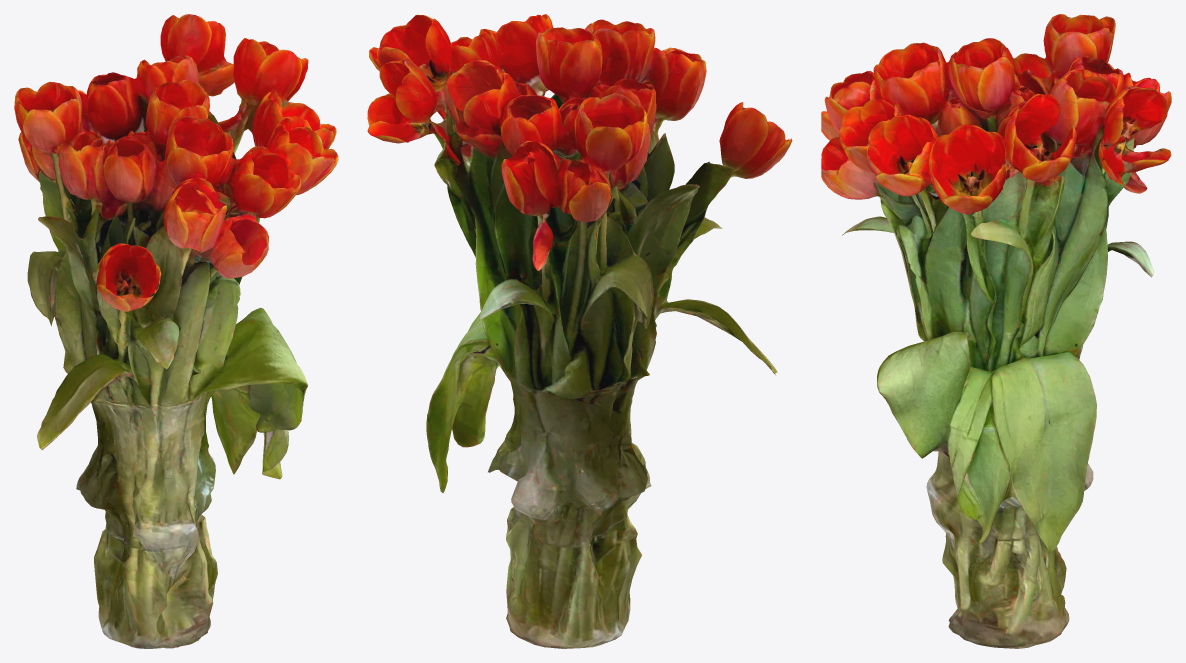
Rendered from bouquet_tulips_alban.glb.
3 renders of one model, left to right at view 1: azimuth 30°, elevation 25°; view 2: azimuth 150°, elevation 25°; view 3: azimuth 270°, elevation 25°, orthographic. The views are drawn at different scales.
Visible parts, largest first — view 1: Object_4; view 2: Object_4; view 3: Object_4.
Part boxes in pixels (bbox=[...]): Object_4: bbox=[14, 14, 338, 648]; Object_4: bbox=[367, 14, 792, 648]; Object_4: bbox=[821, 14, 1171, 648].
Bounding box in the file's own units: 0.2059 × 0.3376 × 0.1823.
Materials: 1 (1 with a texture image).
